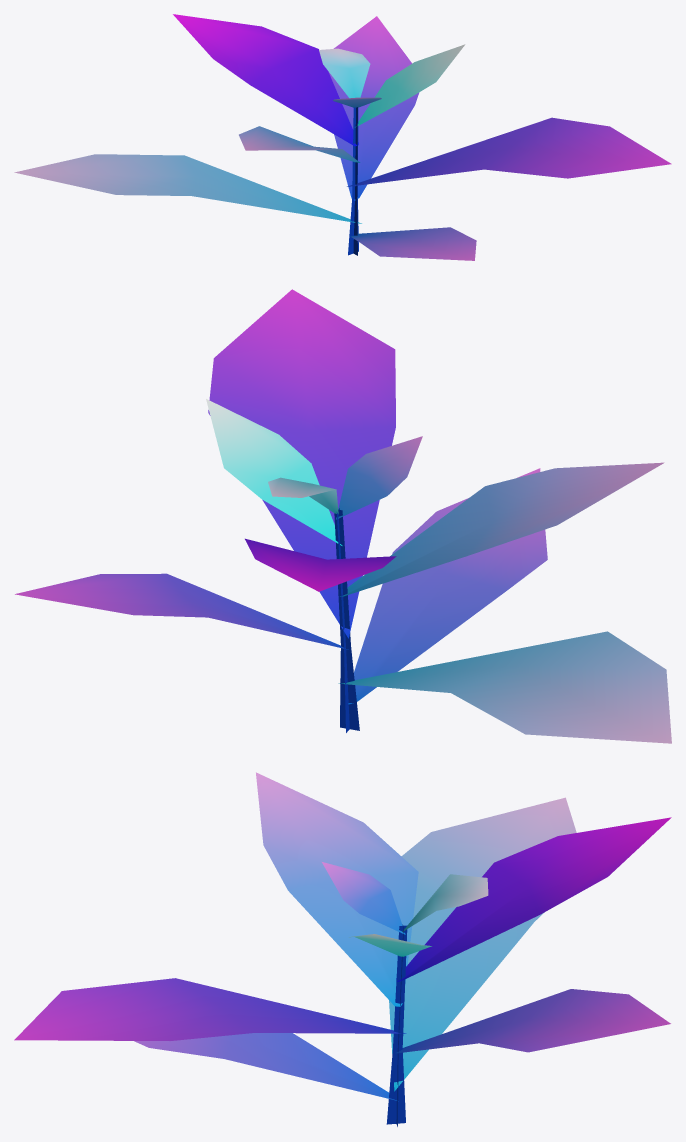
The model's file is xefmcgrqx_VarA_LOD1.fbx.
3 views of the same model, one above another, from view 1: azimuth 30°, elevation 25°; view 2: azimuth 150°, elevation 25°; view 3: azimuth 270°, elevation 25° (orthographic). The views are drawn at different scales.
Visible parts, largest first — view 1: _swl8_VarA_LOD3; view 2: _swl8_VarA_LOD3; view 3: _swl8_VarA_LOD3.
Boxes of the visible parts, <box> form: _swl8_VarA_LOD3: <box>14,14,671,260</box>; _swl8_VarA_LOD3: <box>15,289,671,743</box>; _swl8_VarA_LOD3: <box>14,772,671,1126</box>.
Size of the model in its own units: 25.88 by 10.3 by 23.67.
